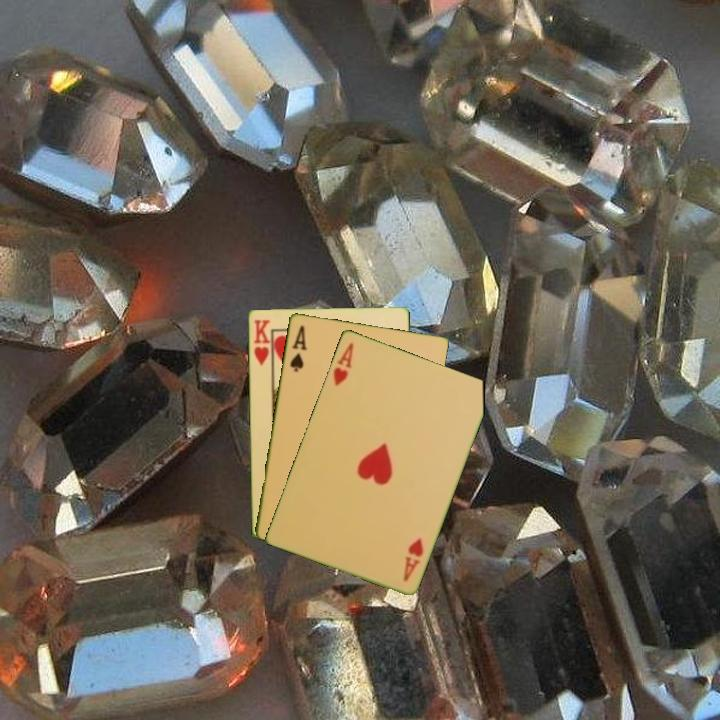Ah: (329, 339, 357, 389), (399, 534, 426, 584)
As: (286, 321, 310, 374)
Kh: (250, 316, 274, 371)
